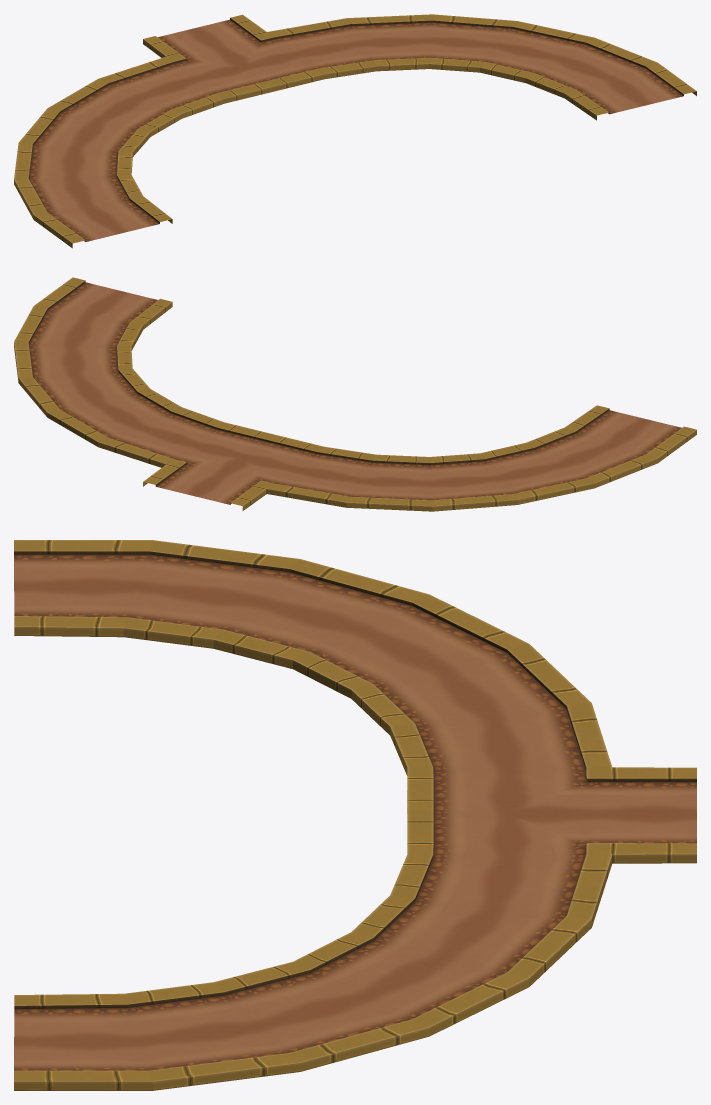
File: RoadPiece_07.FBX
The picture shows the model from 3 angles, top to bottom: view 1: azimuth 30°, elevation 25°; view 2: azimuth 150°, elevation 25°; view 3: azimuth 270°, elevation 25°; orthographic projection. The views are drawn at different scales.
Visible parts, largest first — view 1: RoadPiece_07; view 2: RoadPiece_07; view 3: RoadPiece_07.
Part boxes in pixels (bbox=[...]): RoadPiece_07: bbox=[14, 14, 696, 248]; RoadPiece_07: bbox=[14, 277, 696, 511]; RoadPiece_07: bbox=[14, 540, 696, 1090].
Size of the model in its own units: 10.21 by 0.0796 by 5.44.
